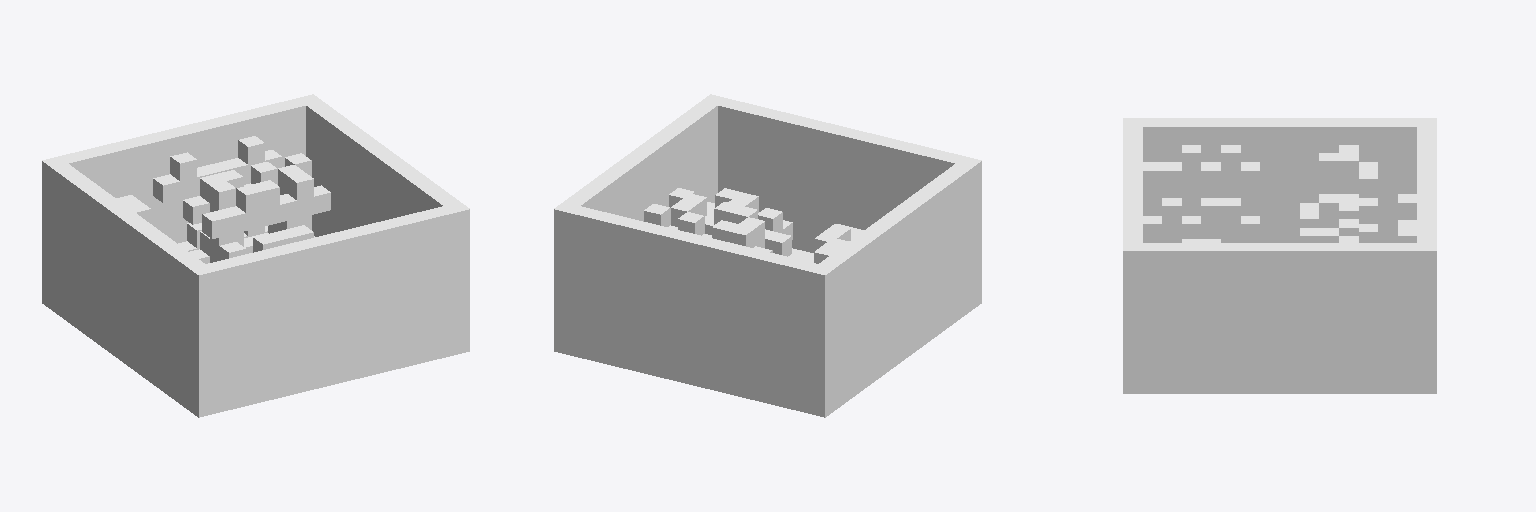
File: Towar-4.obj
The picture shows the model from 3 angles: view 1: azimuth 30°, elevation 25°; view 2: azimuth 150°, elevation 25°; view 3: azimuth 270°, elevation 25°; orthographic projection.
Visible parts, largest first — view 1: Towar-4; view 2: Towar-4; view 3: Towar-4.
Part boxes in pixels (x1,y1,x2,y2): Towar-4: (42,94,469,417); Towar-4: (554,94,981,417); Towar-4: (1123,118,1436,393).
Size of the model in its own units: 16 by 8 by 16.